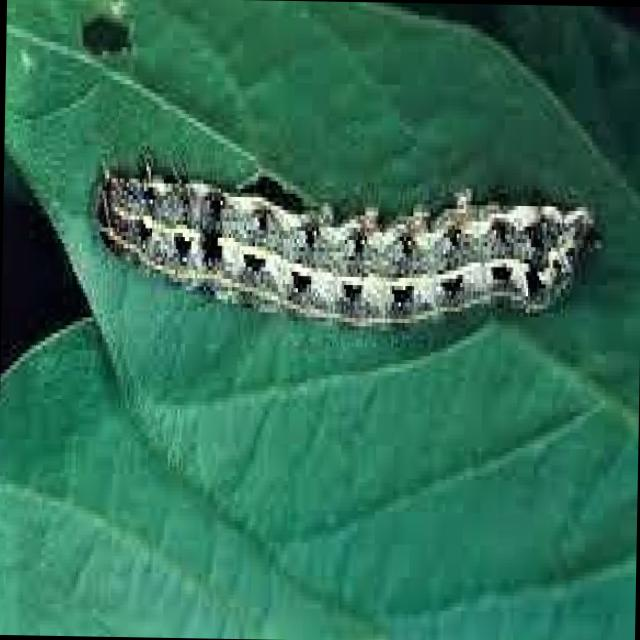Armyworm: (85, 117, 618, 382)
Armyworm_damage: (54, 1, 175, 113)
